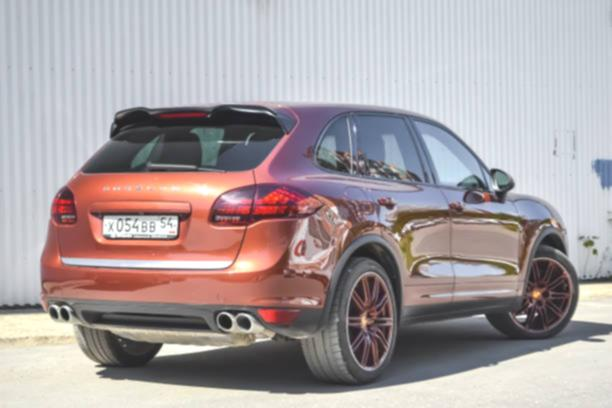porsche: (96, 181, 186, 197)
